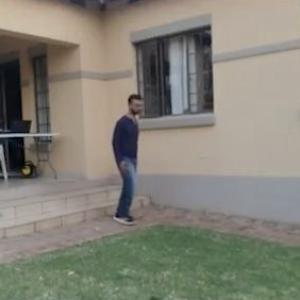follow: (116, 94, 151, 215)
